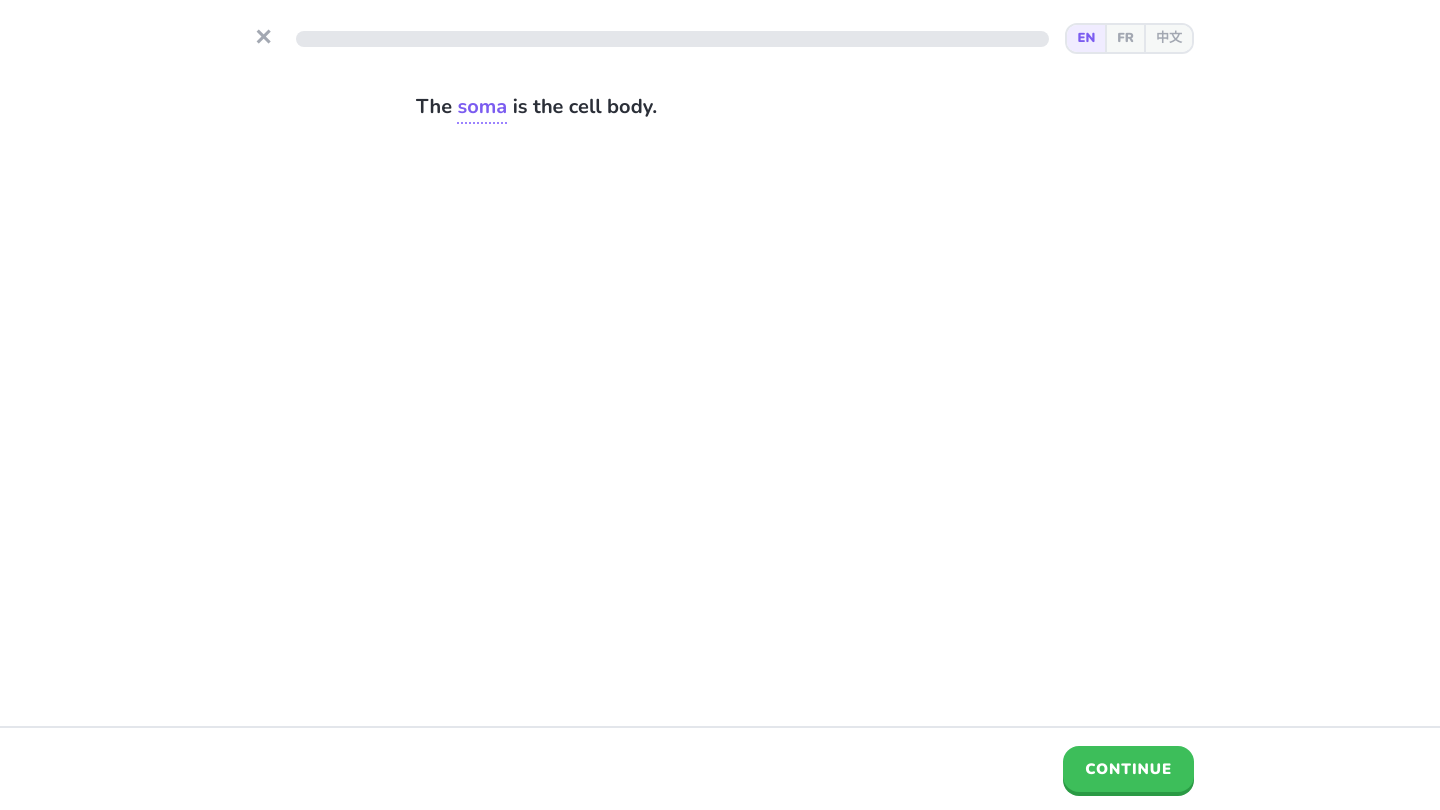
Test case: a term opens a popover with all three languages, missing ones coming soon
Click the button "soma" at (482, 108), box [458,91,507,124]
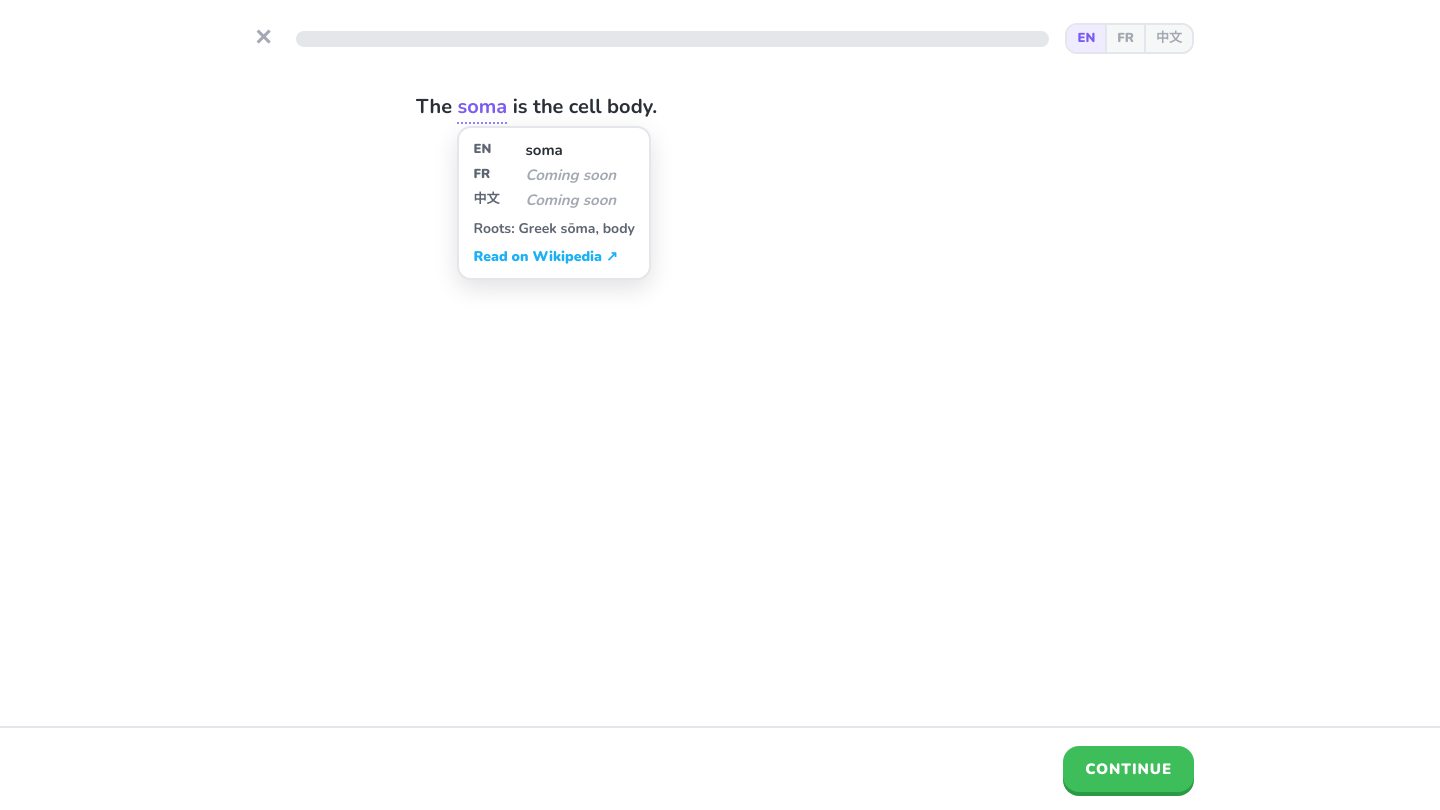
Result: the text "soma" is shown at [526,140,563,160]
Result: the text "Coming soon" is shown 2 times at [526,165,616,185]; [526,190,616,210]
Result: the text "Roots: Greek sōma, body" is shown at [474,219,635,239]
Press Escape
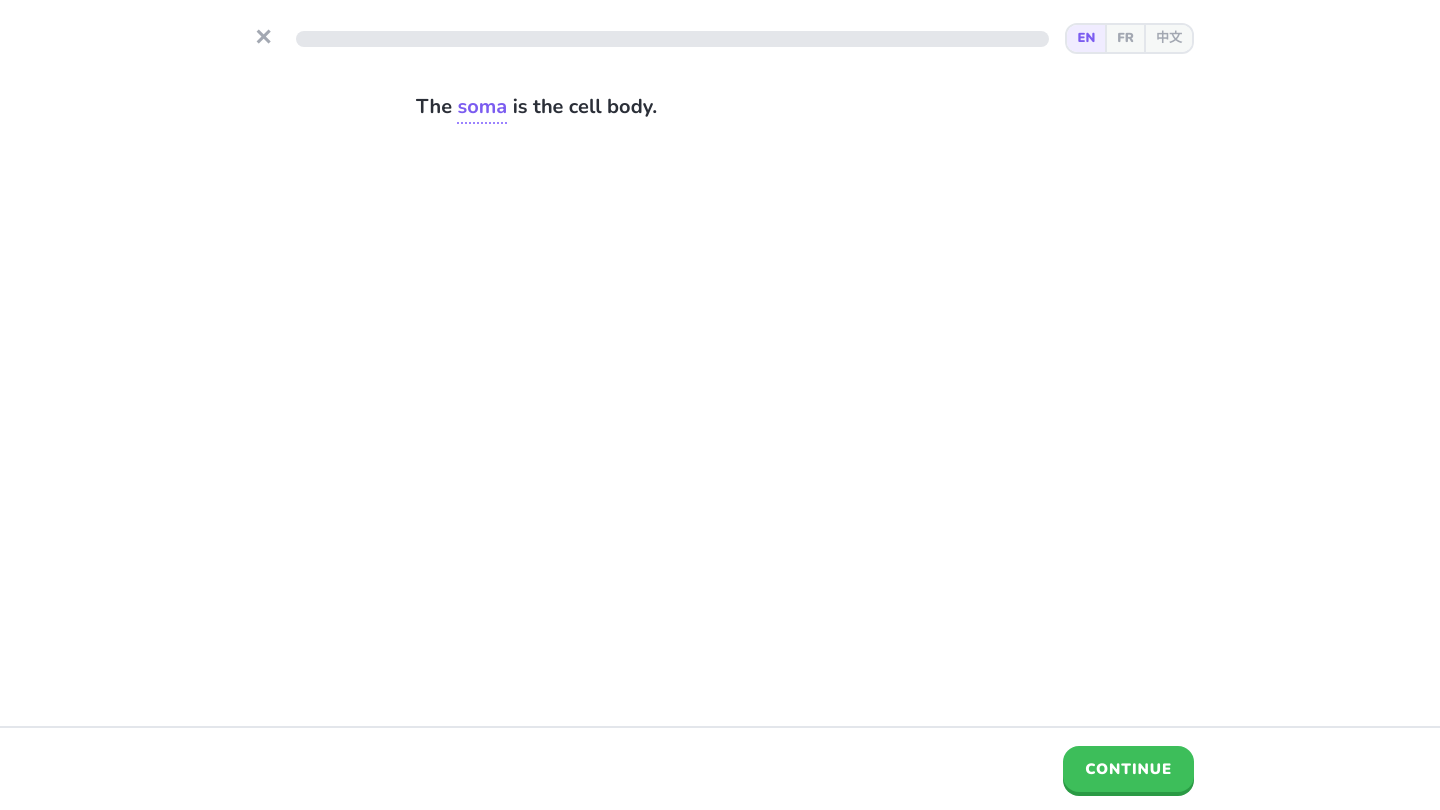
Result: the dialog is gone
